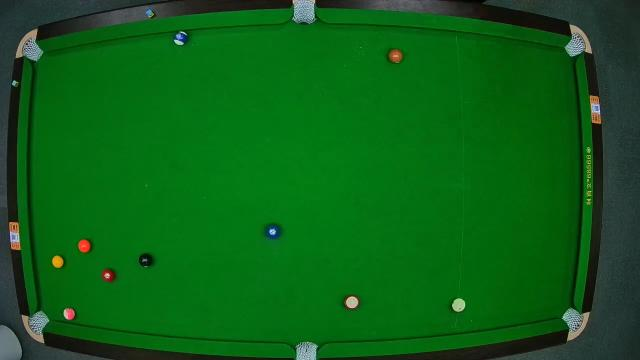bag1: (19, 38, 45, 62)
bag2: (291, 0, 316, 24)
bag3: (563, 30, 589, 57)
bag4: (24, 311, 51, 337)
bag5: (294, 338, 320, 360)
bag6: (564, 307, 586, 335)
ball0: (451, 296, 467, 314)
ball1: (52, 254, 64, 270)
ball10: (172, 30, 190, 46)
ball11: (343, 294, 361, 312)
ball12: (62, 306, 76, 322)
ball2: (264, 224, 282, 240)
ball3: (102, 268, 115, 284)
ball5: (79, 238, 91, 254)
ball7: (388, 48, 404, 64)
ball8: (139, 252, 153, 268)
